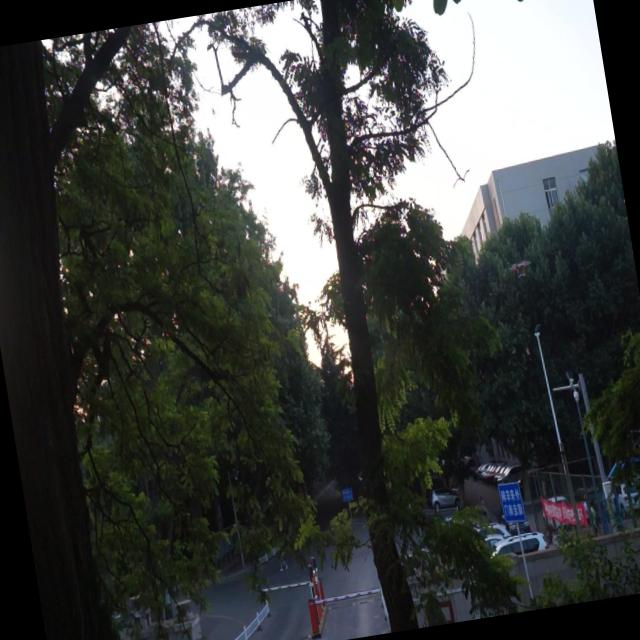drone: (506, 255, 534, 282)
